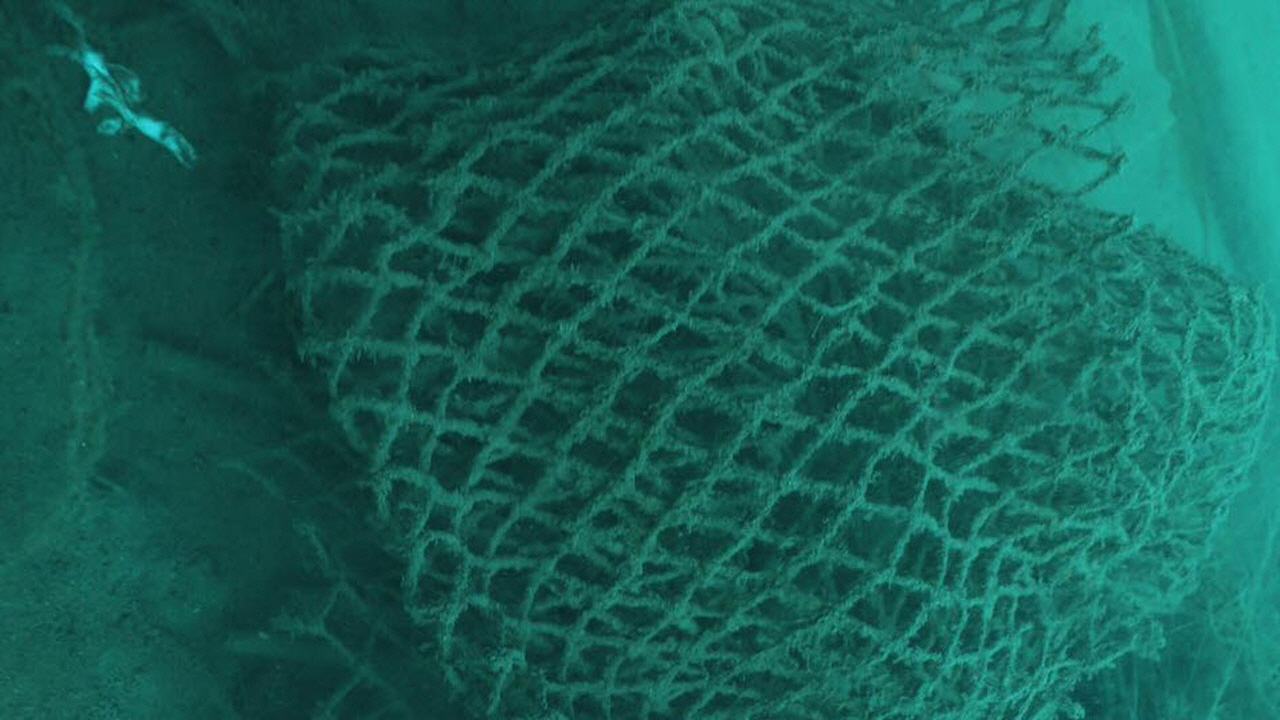fish net: (271, 0, 1279, 720)
